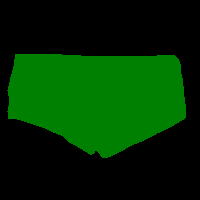mutande: (7, 53, 186, 158)
